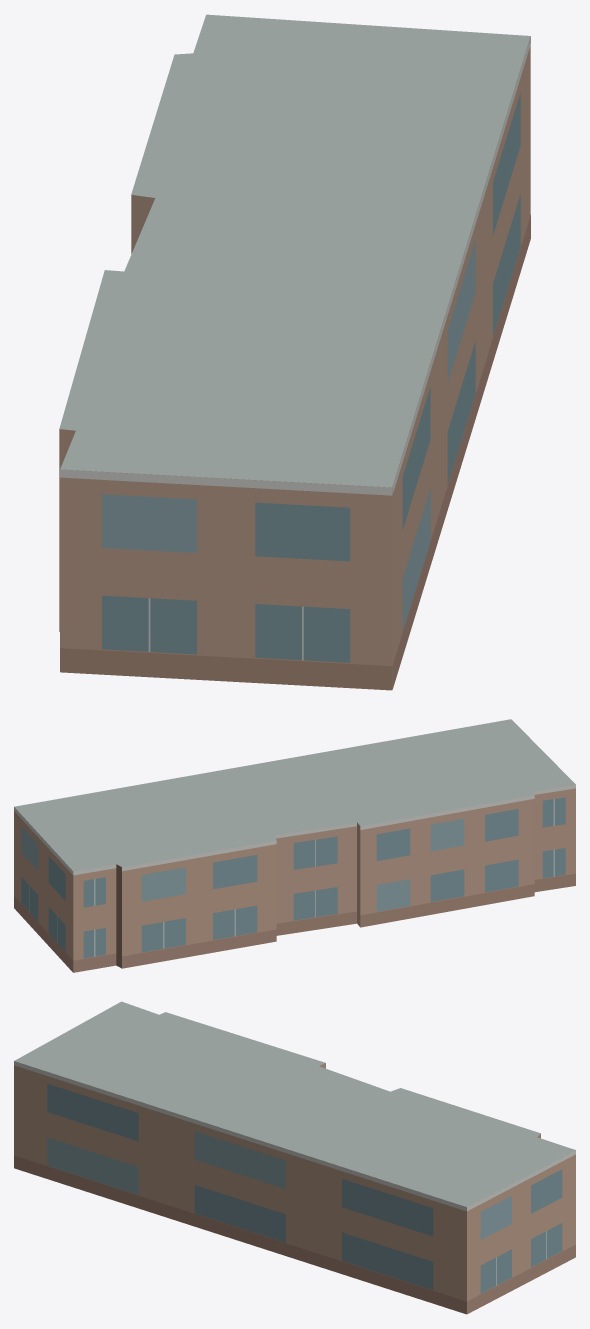
The model's file is survey-upis-32949846.glb.
The picture shows the model from 3 angles, top to bottom: view 1: azimuth 30°, elevation 25°; view 2: azimuth 150°, elevation 25°; view 3: azimuth 270°, elevation 25°; orthographic projection. The views are drawn at different scales.
Visible parts, largest first — view 1: survey-upis-32949846.tmp; view 2: survey-upis-32949846.tmp; view 3: survey-upis-32949846.tmp.
Part boxes in pixels (x1,y1,x2,y2): survey-upis-32949846.tmp: (59,14,530,690); survey-upis-32949846.tmp: (14,719,575,972); survey-upis-32949846.tmp: (14,1001,575,1314).
Size of the model in its own units: 25.09 by 6.1 by 28.96.
